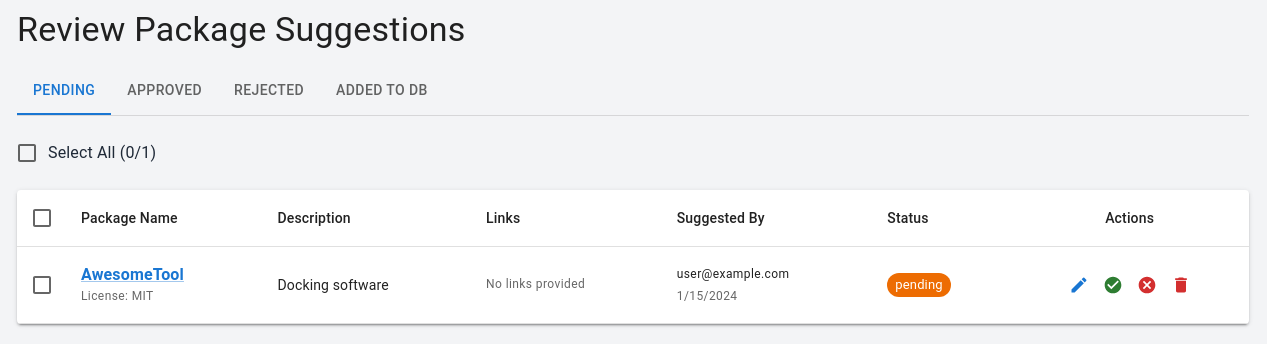
Test: AdminReviewSuggestionsPage — batch operations › selecting a suggestion checkbox shows batch action buttons
Expected: the button "AwesomeTool" is shown, [81,263,184,287]
Click the 3rd checkbox at [42, 285], box [30,273,54,297]
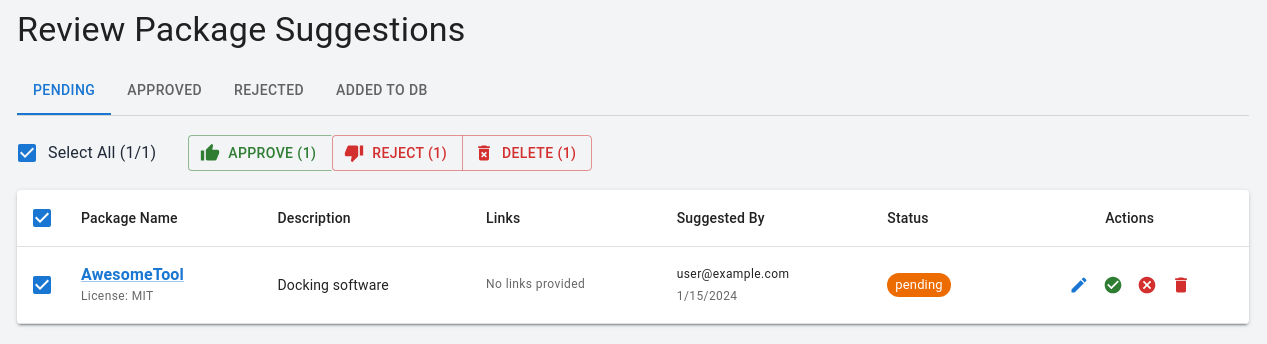
Expected: the button "Approve (1)" is shown, [188,135,332,171]
